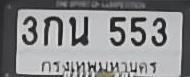3: (150, 16, 166, 46), (21, 15, 37, 44)
5: (109, 16, 125, 45), (130, 16, 146, 45)
A01: (43, 15, 62, 45)
A25: (68, 15, 88, 45)
BKK: (39, 58, 158, 75)
